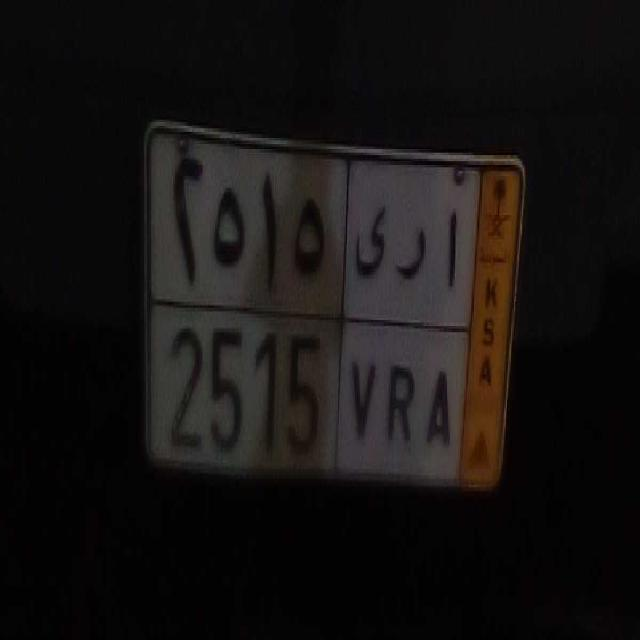license_plate: (144, 300, 465, 484)
